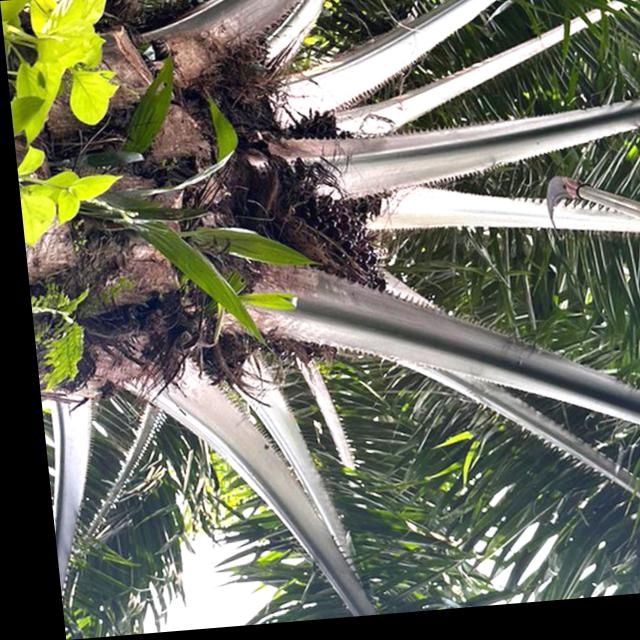unripe: (264, 189, 397, 309)
